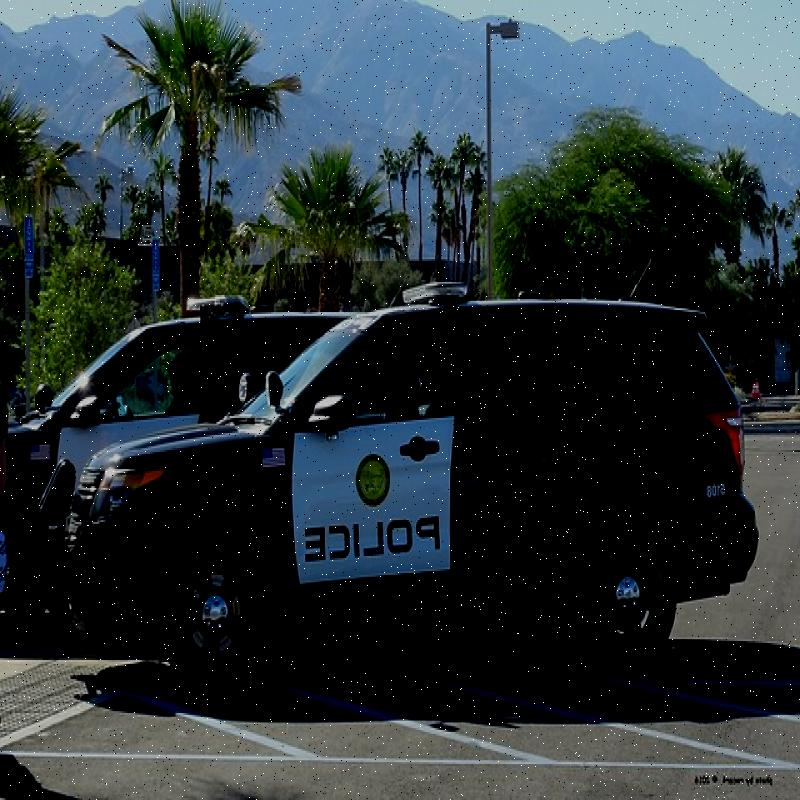AmbulanceSiren: (383, 265, 479, 309)
